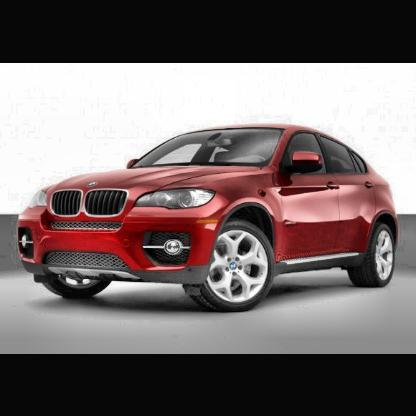BMW X6 SUV 2012: (14, 122, 402, 304)
